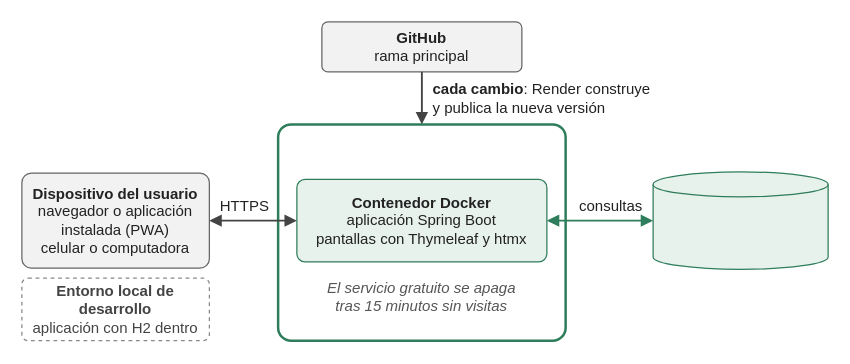
The diagram is 850 pixels wide and 364 high, and some of its shapes have lost their labels. The shapes that lost their labels are listed below. From the top down, each one's box as (x1, y1, x2, y2) in pixels, then its label:
(276, 122, 566, 341): Render · Oregon plan gratuito: 0,1 núcleo y 512 MB
(652, 171, 828, 269): Base de datos PostgreSQL 17 en Supabase
